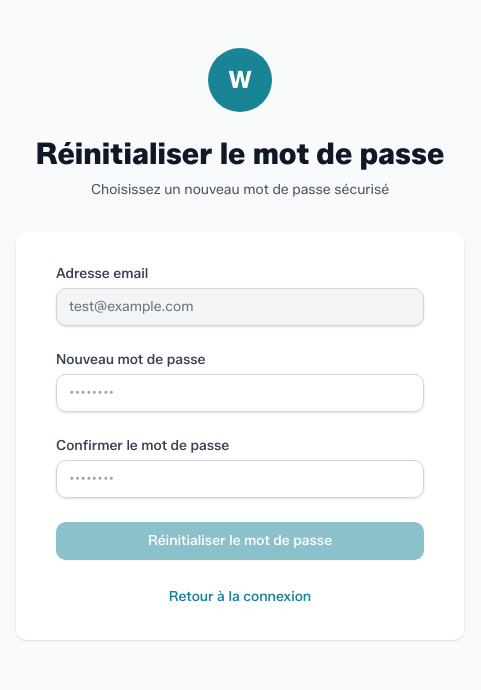
Test case: ResetPasswordPage › shows password requirements when password field is focused
Focus on password field
Focus the password field with test id "password-input" at coordinates (240, 393), box [56,374,424,412]
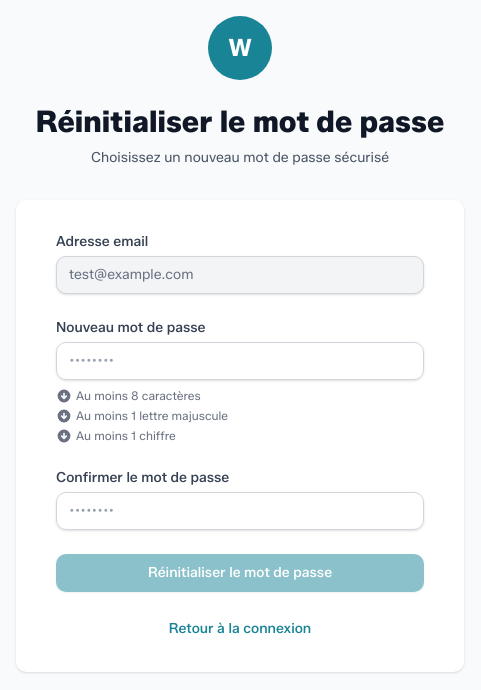
expect the element with test id "password-requirements" is shown: met, box [56,388,228,444]
